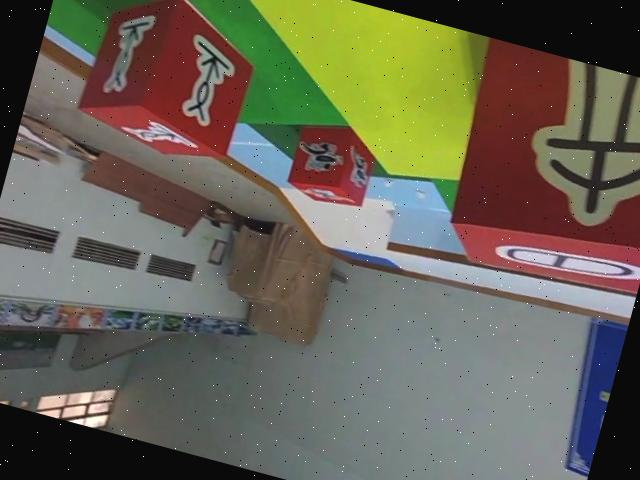R1: (287, 115, 379, 211)
R2 Fake: (428, 37, 640, 315)
R2 Real: (71, 0, 269, 172)
